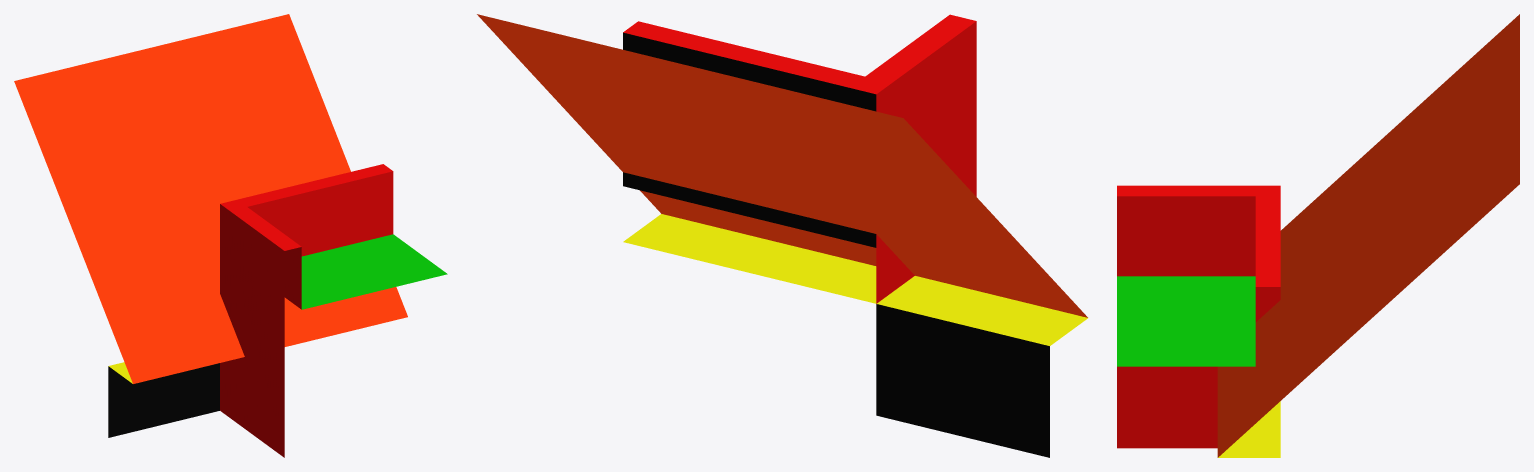
3 views of the same model, side by side, from view 1: azimuth 30°, elevation 25°; view 2: azimuth 150°, elevation 25°; view 3: azimuth 270°, elevation 25° (orthographic). The views are drawn at different scales.
Parts seen in each view (by area): view 1: None_S_W_E_E_S_E_E_E_None; view 2: None_S_W_E_E_S_E_E_E_None; view 3: None_S_W_E_E_S_E_E_E_None.
Part boxes in pixels (x1,y1,x2,y2): None_S_W_E_E_S_E_E_E_None: (14, 14, 447, 457); None_S_W_E_E_S_E_E_E_None: (477, 14, 1087, 457); None_S_W_E_E_S_E_E_E_None: (1117, 14, 1519, 457).
Bounding box in the file's own units: 100 × 100 × 100.
